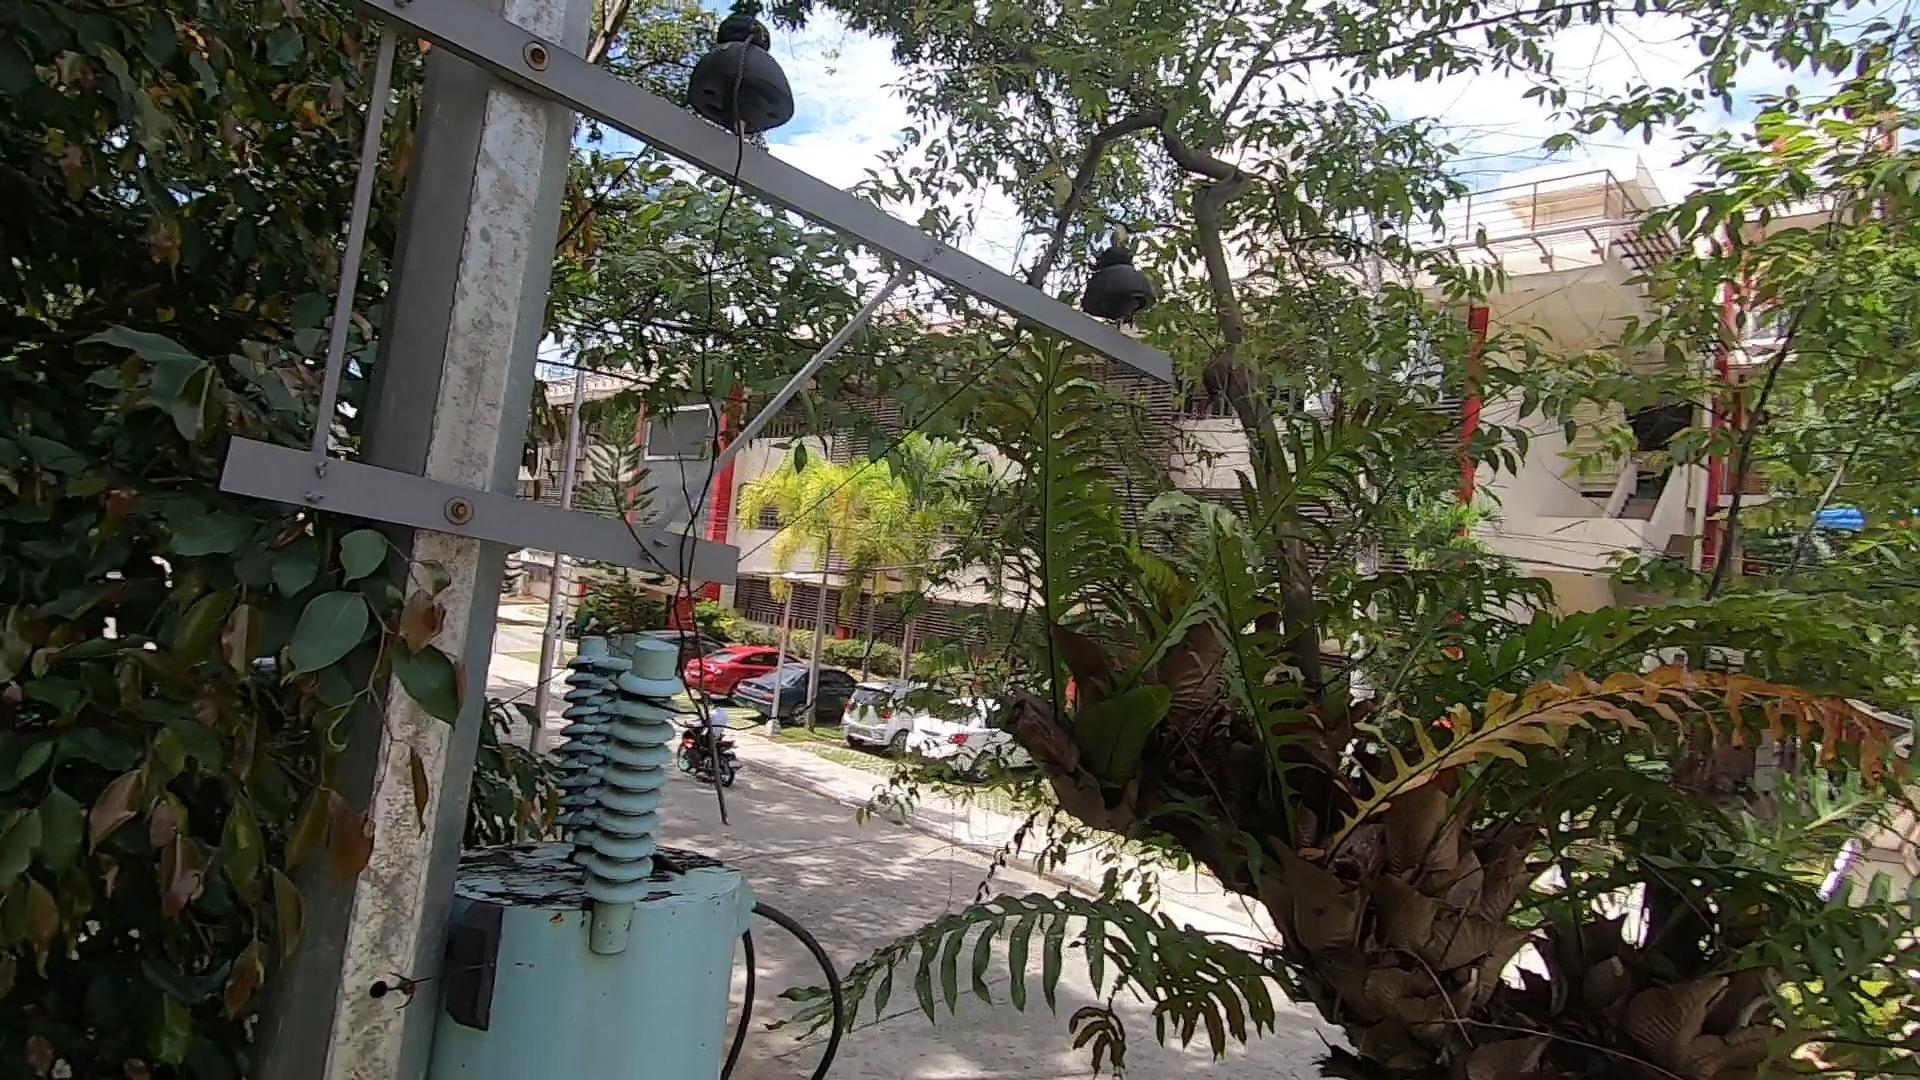leaf: (651, 851, 690, 885)
tree branch: (588, 419, 758, 837)
